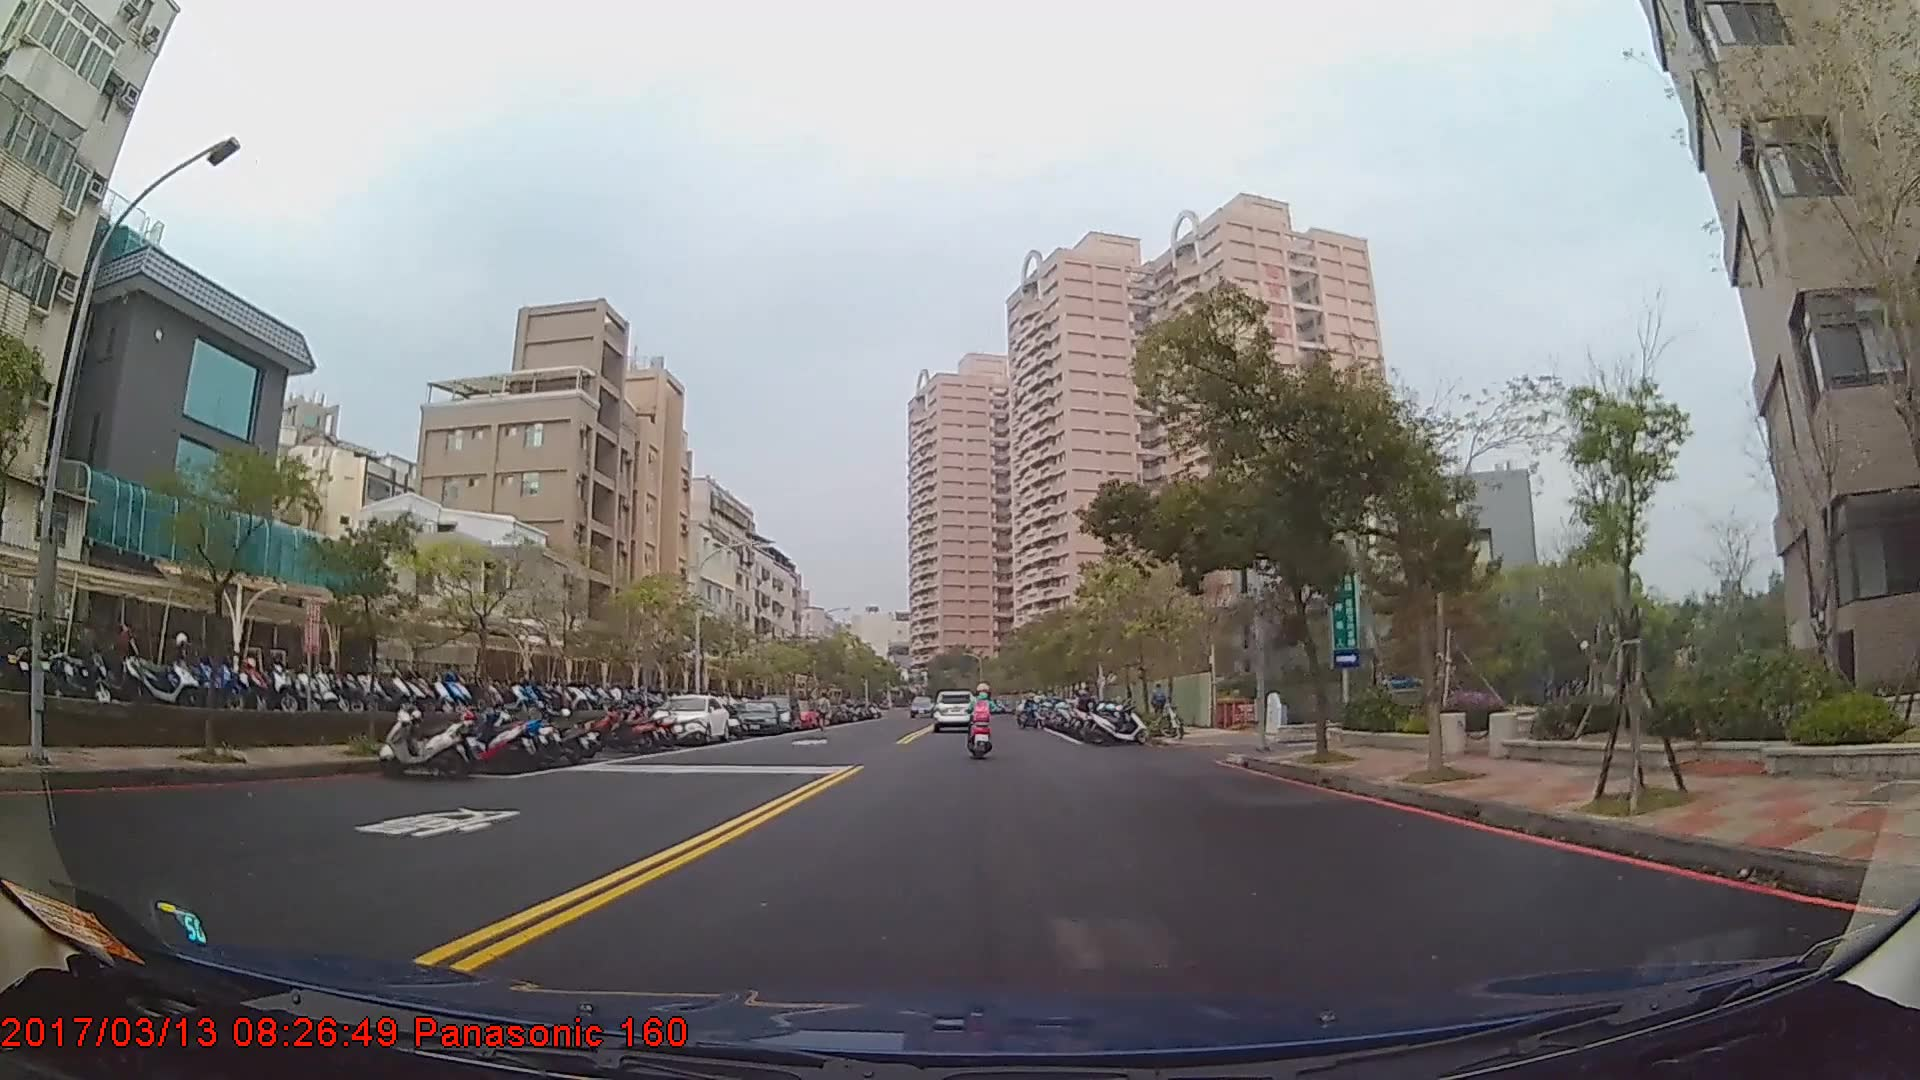pedestrian: (1145, 680, 1174, 741)
rider: (968, 683, 998, 758)
vehicle: (648, 693, 729, 745), (928, 687, 978, 731), (731, 698, 783, 736), (752, 693, 800, 734)
